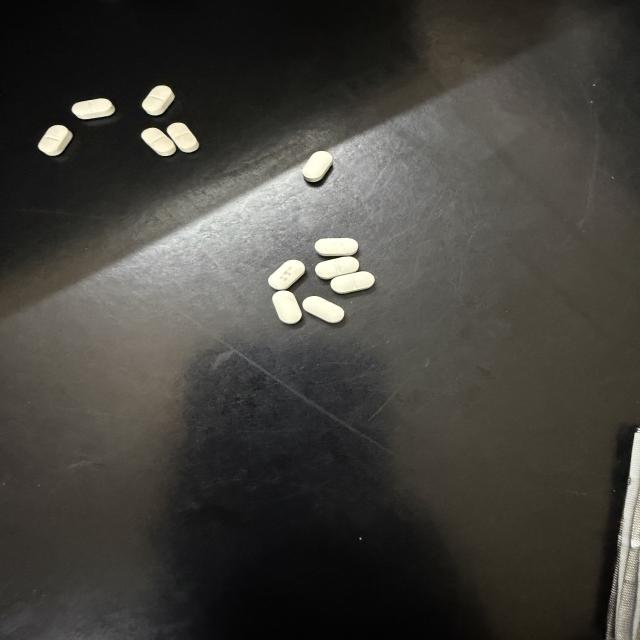pill: (268, 260, 305, 290), (303, 296, 344, 323), (38, 125, 72, 156), (272, 290, 302, 324), (141, 128, 176, 156), (315, 257, 359, 279), (142, 86, 175, 115), (167, 123, 199, 152), (331, 272, 374, 293), (303, 151, 332, 182), (72, 99, 115, 119), (315, 238, 358, 256)
